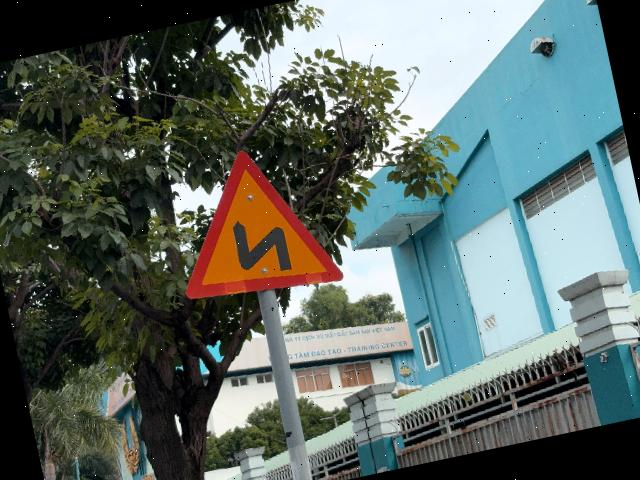nhieu-cho-ngoat-nguy-hiem-lien-tiep: (158, 135, 344, 313)
